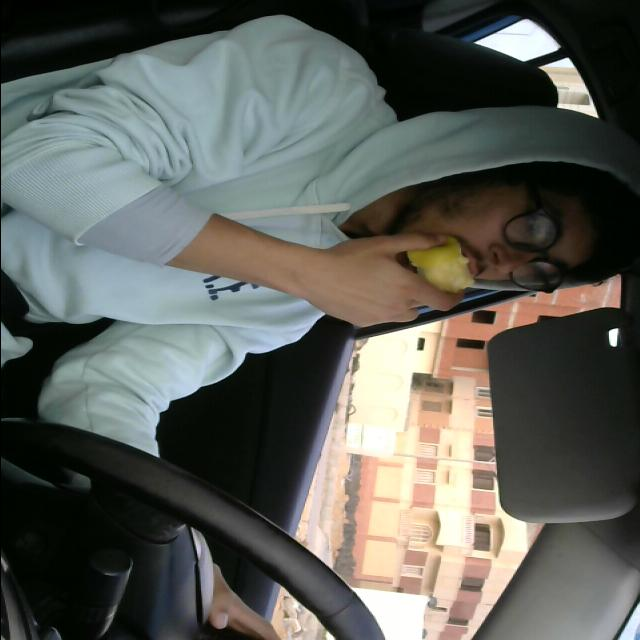eating: (407, 235, 485, 307)
